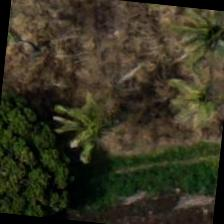Kelapa_Sawit: (42, 78, 141, 176), (150, 49, 223, 148), (162, 5, 223, 80)
